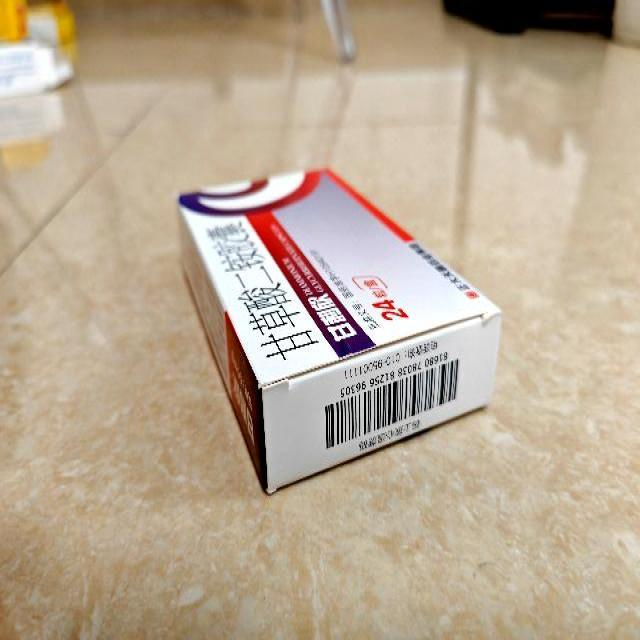box: (176, 168, 502, 492)
